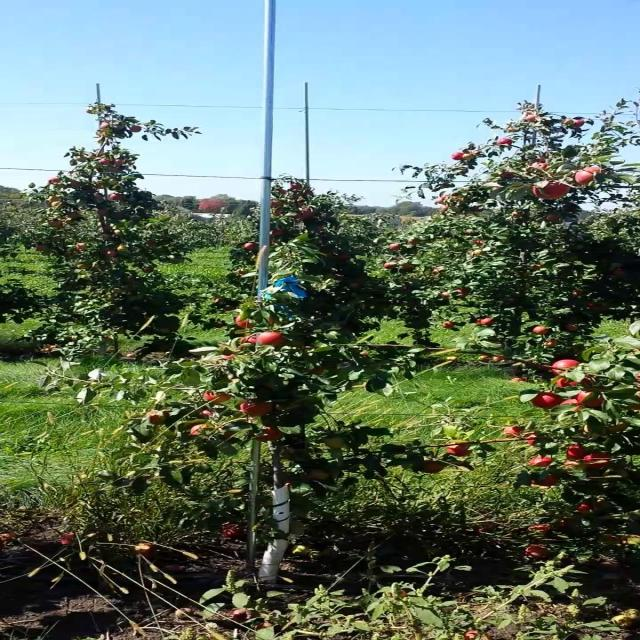apple: (532, 184, 569, 200), (532, 392, 562, 408), (554, 360, 581, 376), (241, 404, 276, 416), (255, 428, 284, 442), (561, 376, 594, 388), (262, 332, 288, 347), (582, 456, 612, 469), (205, 392, 235, 404), (532, 476, 562, 488), (582, 392, 604, 408), (148, 412, 171, 425), (575, 172, 597, 185), (532, 456, 555, 468), (589, 300, 610, 313), (447, 444, 469, 456), (568, 448, 590, 459), (426, 464, 446, 474), (241, 316, 256, 329), (191, 424, 206, 436), (504, 428, 524, 437), (568, 400, 583, 412), (604, 536, 626, 544), (312, 472, 331, 481), (326, 440, 347, 448), (241, 336, 261, 344), (611, 424, 631, 432), (554, 380, 574, 388), (582, 504, 596, 513), (525, 436, 540, 444), (312, 368, 327, 376), (568, 460, 581, 468), (589, 168, 606, 174), (220, 356, 235, 361), (198, 412, 213, 416), (227, 432, 235, 436)
